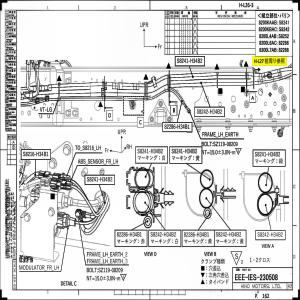PartNumber: (254, 150, 282, 158), (86, 176, 113, 183), (150, 231, 177, 238), (171, 148, 198, 155), (116, 231, 142, 238), (184, 231, 210, 238), (258, 231, 284, 238), (177, 57, 203, 64), (137, 148, 164, 154), (196, 108, 223, 114), (216, 231, 242, 237), (164, 123, 190, 129), (213, 141, 239, 147), (98, 268, 122, 274), (22, 151, 49, 156)
